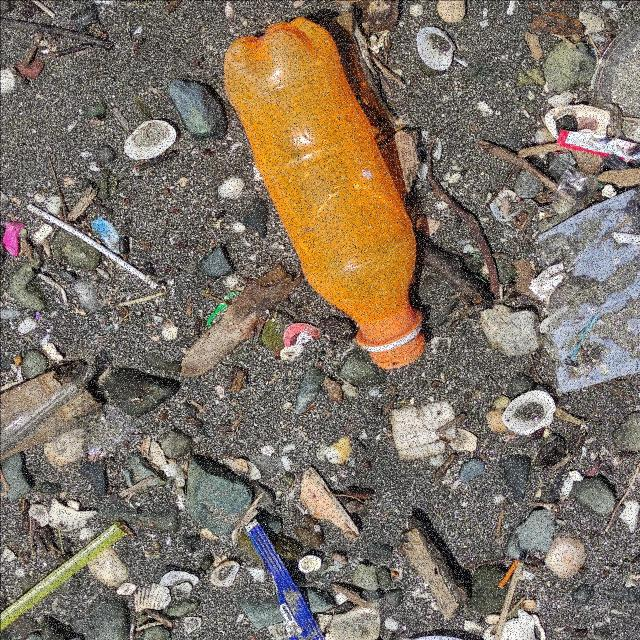plastic_waste: (223, 18, 425, 371), (540, 185, 640, 395), (1, 529, 127, 640), (24, 200, 161, 289), (245, 515, 327, 639)
